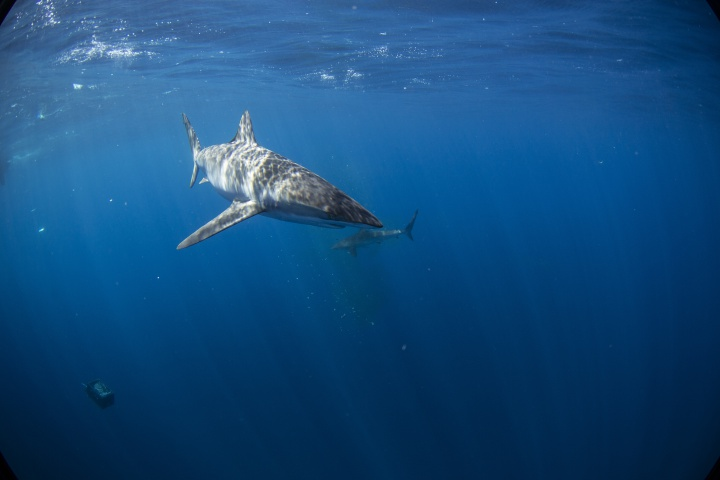Sedoso: (156, 101, 391, 260)
